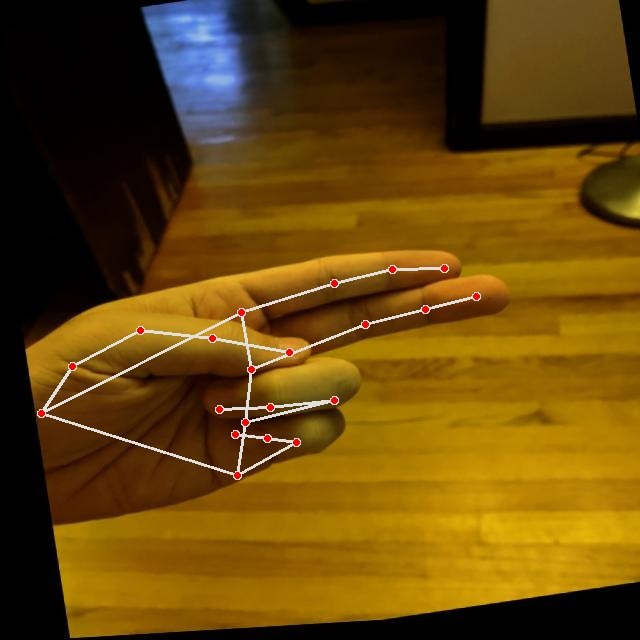H: (13, 224, 545, 537)
